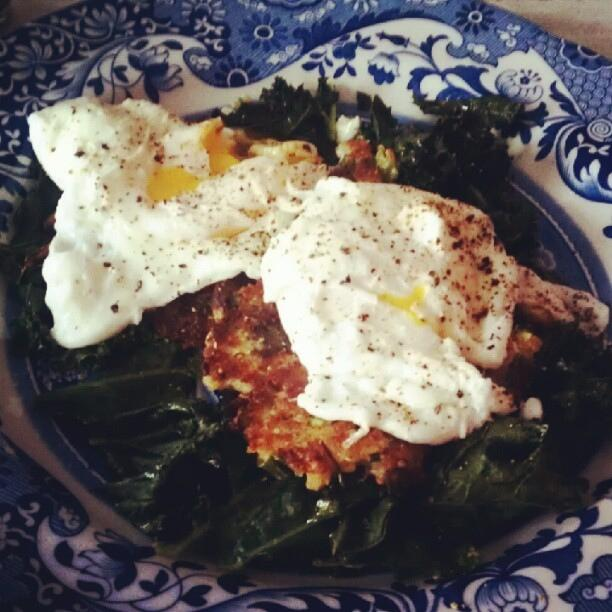potato: (152, 274, 431, 492), (347, 138, 386, 182), (510, 328, 542, 360)
